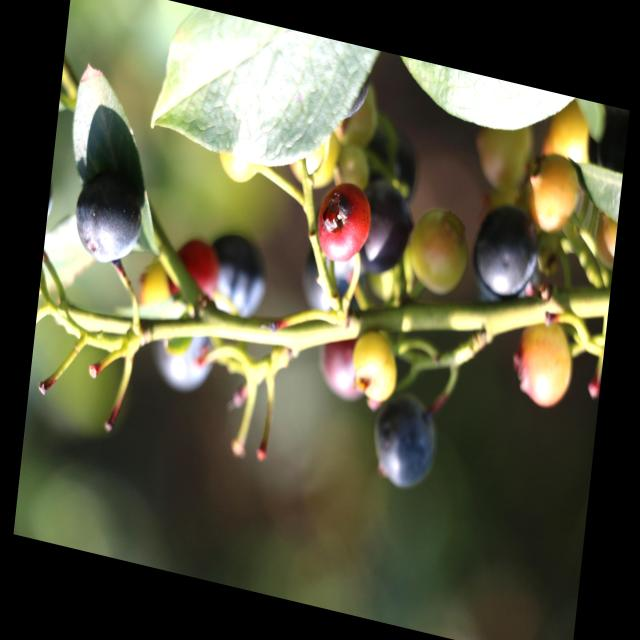blueberry: (366, 378, 446, 495), (463, 200, 545, 304), (71, 168, 150, 272), (201, 221, 274, 326), (349, 173, 416, 279), (151, 314, 226, 399), (318, 331, 380, 417), (300, 238, 356, 321)
blueberry-halfripe: (309, 168, 377, 268), (165, 233, 221, 310)
blueberry-unripe: (407, 201, 472, 307), (519, 310, 576, 414), (526, 148, 588, 241), (352, 326, 402, 404)
